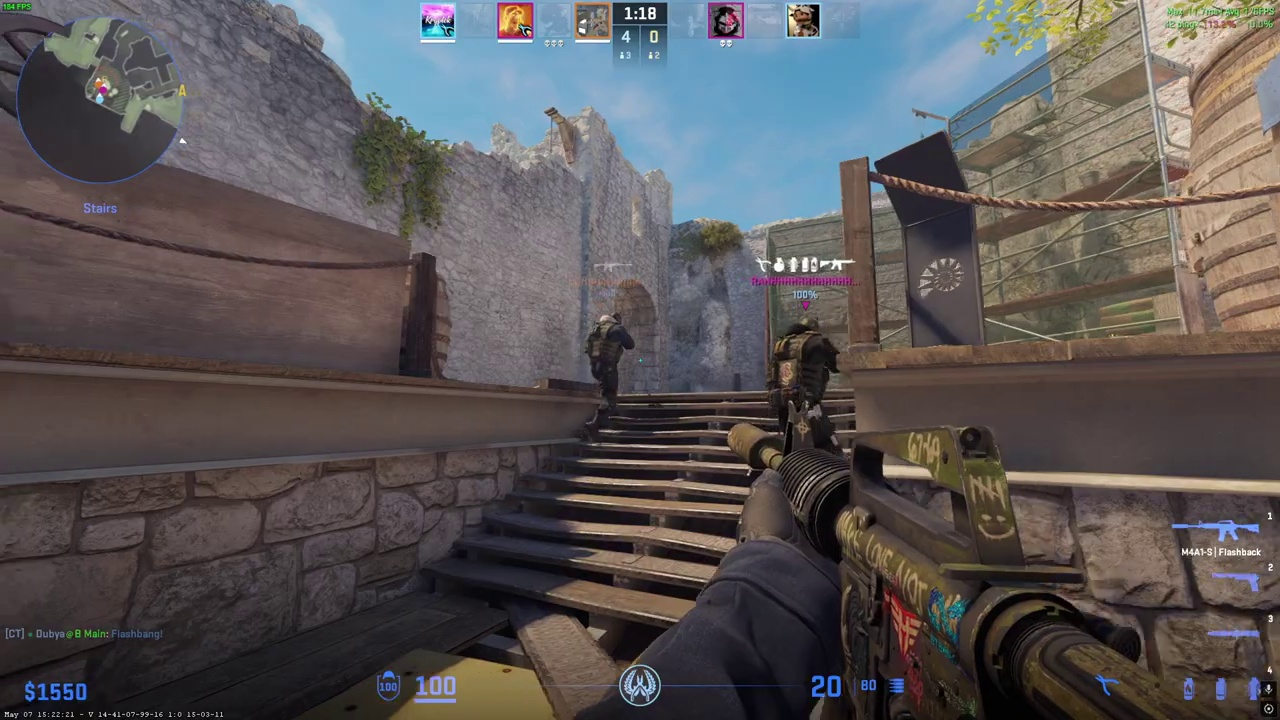CT: (769, 315, 841, 455), (584, 311, 633, 426)
